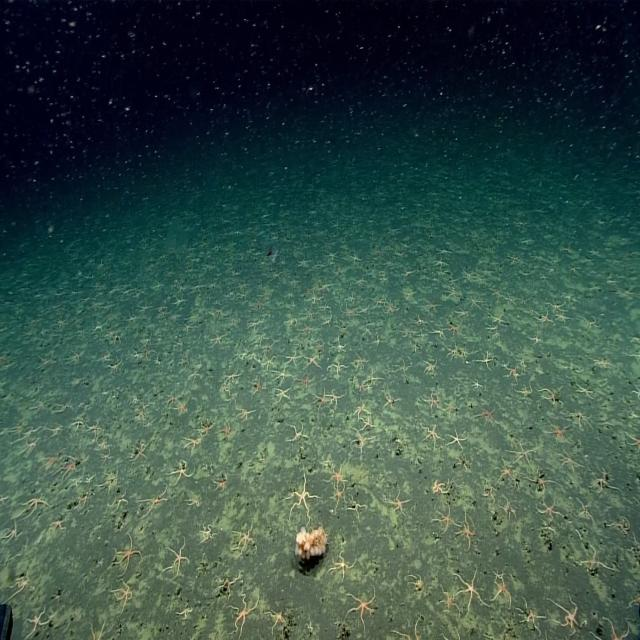brittle-stars: (288, 468, 315, 520), (231, 596, 261, 638), (345, 588, 375, 627), (455, 570, 484, 609), (113, 536, 140, 572), (553, 597, 580, 633), (140, 484, 170, 516), (26, 602, 52, 636), (233, 521, 257, 557), (520, 598, 544, 634), (576, 546, 608, 573), (166, 542, 190, 577), (332, 550, 356, 584), (111, 578, 133, 610), (602, 618, 633, 640), (457, 515, 477, 549), (23, 491, 49, 516), (512, 442, 537, 468), (388, 488, 410, 516), (11, 568, 33, 596), (0, 519, 22, 547), (589, 467, 612, 493), (216, 570, 239, 596), (436, 507, 458, 534), (440, 586, 460, 615), (38, 452, 61, 477), (546, 419, 569, 443), (108, 487, 127, 516), (498, 494, 517, 523), (171, 458, 193, 483), (268, 606, 287, 634), (493, 579, 512, 607), (86, 621, 114, 640), (329, 484, 348, 511), (445, 426, 465, 451), (559, 448, 578, 474), (536, 498, 558, 520), (538, 385, 560, 407), (60, 456, 80, 480), (574, 499, 592, 525), (351, 432, 372, 454), (497, 458, 515, 483), (331, 459, 348, 485), (478, 404, 498, 426), (574, 380, 594, 401), (570, 410, 590, 431), (423, 423, 440, 447), (432, 477, 451, 498), (131, 443, 148, 465), (217, 419, 233, 442), (197, 525, 213, 548), (288, 423, 307, 442), (185, 488, 200, 512), (422, 390, 439, 411), (273, 384, 292, 402), (182, 435, 200, 454), (408, 573, 426, 592), (351, 350, 368, 370), (396, 363, 413, 383), (382, 389, 398, 410), (478, 350, 494, 371), (393, 357, 410, 376), (327, 388, 343, 408), (506, 362, 522, 382), (52, 516, 68, 536), (314, 388, 328, 410), (626, 432, 640, 454), (330, 359, 348, 376), (226, 367, 243, 385), (238, 406, 256, 423), (274, 367, 291, 385), (446, 320, 463, 338), (284, 349, 300, 368), (359, 414, 375, 433), (300, 373, 316, 391), (443, 398, 459, 416), (200, 420, 216, 438), (517, 383, 533, 401), (213, 475, 229, 493), (422, 357, 437, 376), (75, 492, 89, 512), (210, 332, 225, 350), (250, 377, 265, 395), (491, 311, 506, 328), (354, 402, 368, 420), (89, 421, 103, 438), (176, 399, 188, 418), (306, 354, 321, 369), (165, 391, 179, 407), (318, 279, 332, 295), (435, 254, 449, 270), (264, 353, 278, 369), (138, 302, 152, 316), (101, 450, 114, 465), (356, 379, 368, 394), (96, 436, 107, 450)
